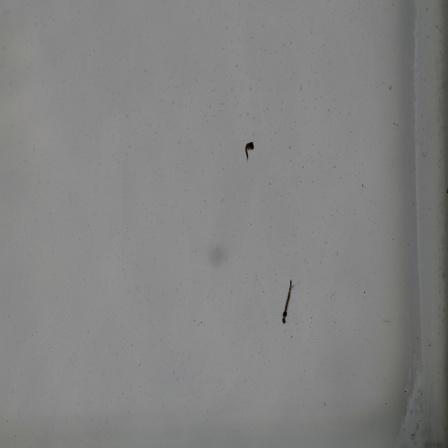Jentik-Nyamuk: (277, 278, 297, 328), (240, 138, 258, 164)
